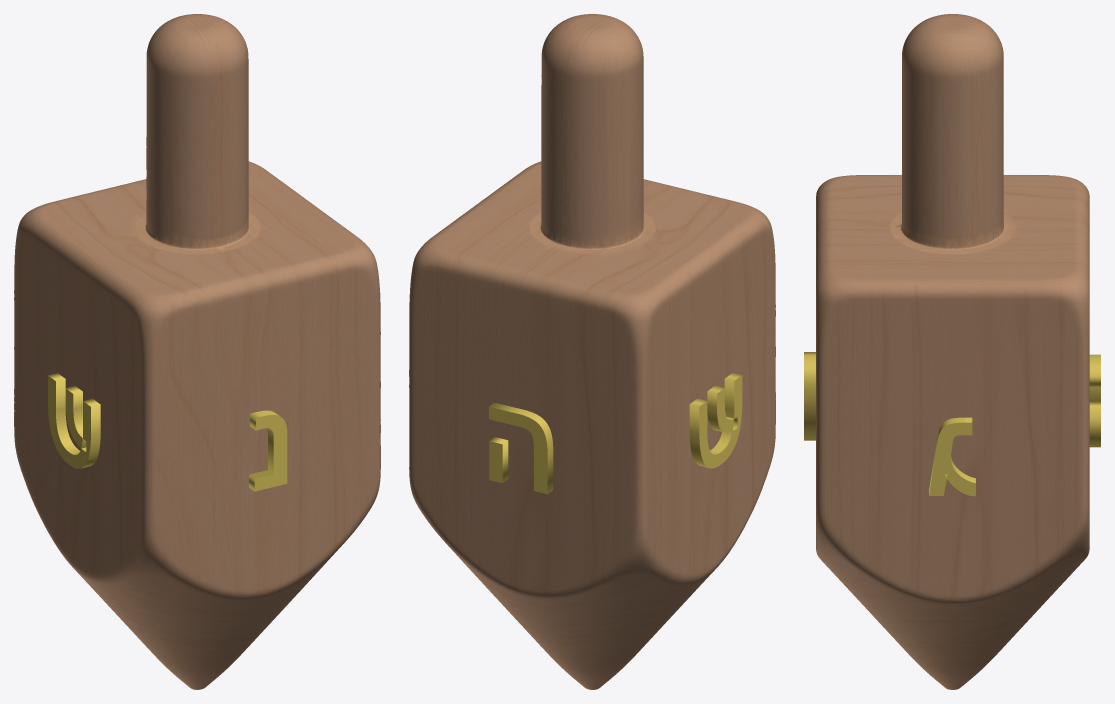
File: dreidel.glb
3 renders of one model, left to right at view 1: azimuth 30°, elevation 25°; view 2: azimuth 150°, elevation 25°; view 3: azimuth 270°, elevation 25°, orthographic.
Visible parts, largest first — view 1: Mesh_0, Letter_Shin, Letter_Nun; view 2: Mesh_0, Letter_Shin, Letter_Hey; view 3: Mesh_0, Letter_Gimel, Letter_Hey, Letter_Nun.
Boxes of the visible parts, bbox=[...] form: Mesh_0: bbox=[14, 14, 380, 689]; Letter_Shin: bbox=[48, 373, 100, 468]; Letter_Nun: bbox=[249, 410, 287, 491]; Mesh_0: bbox=[409, 14, 775, 689]; Letter_Shin: bbox=[689, 373, 742, 468]; Letter_Hey: bbox=[489, 402, 553, 494]; Mesh_0: bbox=[816, 14, 1089, 689]; Letter_Gimel: bbox=[929, 417, 975, 496]; Letter_Hey: bbox=[1089, 354, 1100, 447]; Letter_Nun: bbox=[804, 352, 815, 440].
Bounding box in the file's own units: 0.77 × 1.9 × 0.77.
2 materials, 1 textured.
